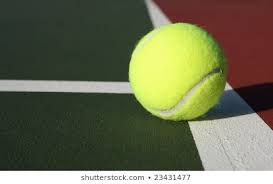tennis_ball: (127, 21, 228, 122)
